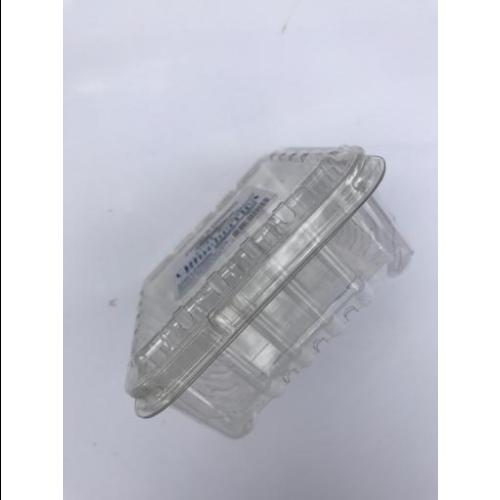plastic: (126, 146, 412, 441)
